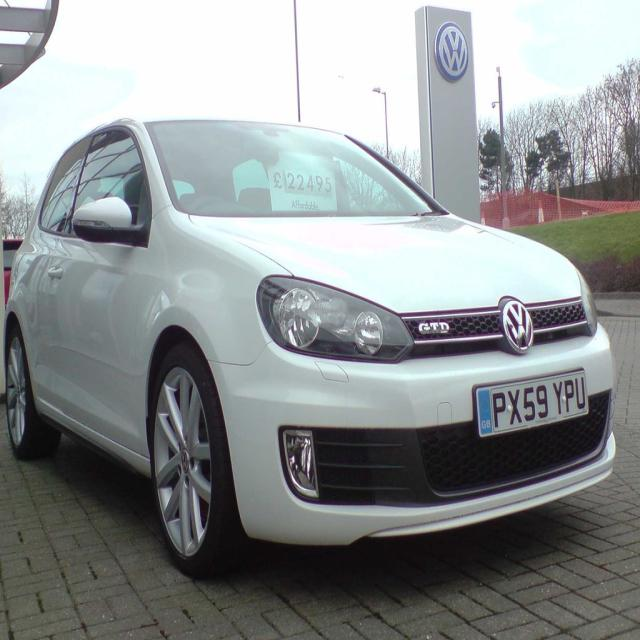car: (20, 105, 632, 570)
